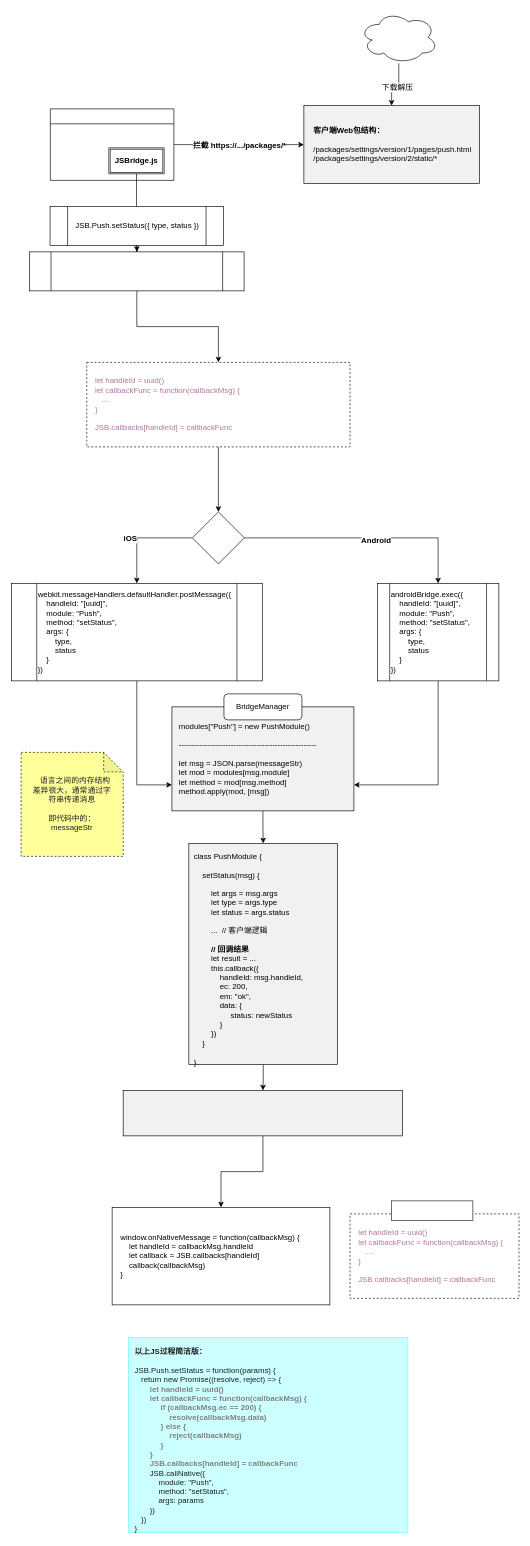
The diagram is 530 pixels wide and 1546 high, and some of its shapes have lost their labels. The box of each missing label's shape, as (x1, y1, x2, y2) in pixels:
callNativeFlat("Push", "setStatus", params): (29, 251, 244, 291)
let jsCode = "window.onNativeMessage({...})" webView.evaluateJS(jsCode): (123, 1090, 403, 1136)
UPM Service: (359, 11, 438, 63)
WebView: 打开settings: (50, 108, 174, 180)
判断系统？: (192, 511, 244, 564)
前面设置过callback: (391, 1200, 473, 1220)
